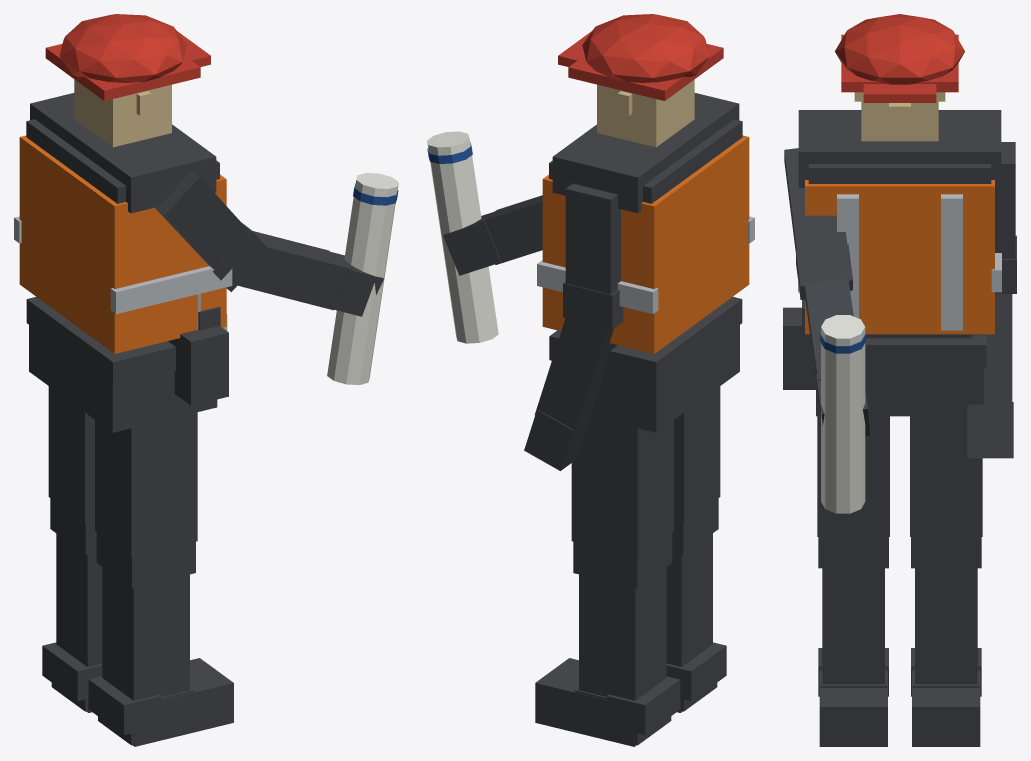
File: worker_foreman.glb
3 renders of one model, left to right at view 1: azimuth 30°, elevation 25°; view 2: azimuth 150°, elevation 25°; view 3: azimuth 270°, elevation 25°, orthographic.
Parts seen in each view (by area): view 1: Worker_Body, Worker_LegR, Worker_LegL, Worker_ArmR, Worker_Roll; view 2: Worker_Body, Worker_LegL, Worker_ArmL, Worker_LegR, Worker_Roll, Worker_ArmR; view 3: Worker_Body, Worker_LegL, Worker_LegR, Worker_Roll, Worker_ArmL, Worker_ArmR, Worker_Radio.
Boxes of the visible parts, bbox=[...] form: Worker_Body: bbox=[14, 14, 232, 432]; Worker_LegR: bbox=[88, 412, 233, 746]; Worker_LegL: bbox=[42, 386, 102, 712]; Worker_ArmR: bbox=[155, 171, 383, 316]; Worker_Roll: bbox=[327, 173, 398, 384]; Worker_Body: bbox=[537, 14, 754, 432]; Worker_LegL: bbox=[535, 417, 680, 746]; Worker_ArmL: bbox=[524, 183, 623, 470]; Worker_LegR: bbox=[666, 386, 726, 712]; Worker_Roll: bbox=[427, 131, 498, 343]; Worker_ArmR: bbox=[443, 195, 542, 275]; Worker_Body: bbox=[783, 14, 1001, 416]; Worker_LegL: bbox=[910, 416, 982, 746]; Worker_LegR: bbox=[817, 416, 889, 746]; Worker_Roll: bbox=[820, 315, 865, 513]; Worker_ArmL: bbox=[967, 142, 1016, 458]; Worker_ArmR: bbox=[784, 148, 869, 436]; Worker_Radio: bbox=[802, 299, 815, 372].
Bounding box in the file's own units: 0.7921 × 1.72 × 0.53.
